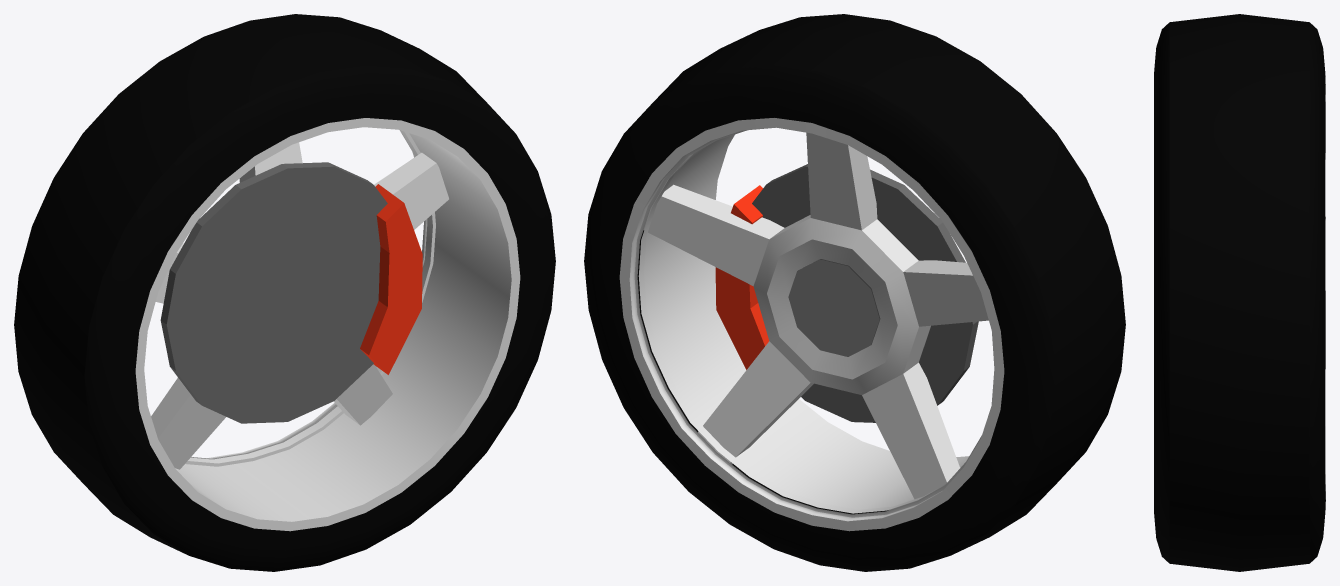
File: tire_3.glb
3 views of the same model, side by side, from view 1: azimuth 30°, elevation 25°; view 2: azimuth 150°, elevation 25°; view 3: azimuth 270°, elevation 25° (orthographic).
Parts seen in each view (by area): view 1: tire, rim, barke_disc, brake; view 2: tire, rim, barke_disc, front, brake, rim_other; view 3: tire.
Part boxes in pixels (x1,y1,x2,y2): tire: (14,14,555,571); rim: (135,118,520,531); barke_disc: (160,162,387,423); brake: (360,184,422,374); tire: (584,14,1125,571); rim: (619,118,1004,531); barke_disc: (752,164,978,422); front: (788,259,879,356); brake: (715,185,768,369); rim_other: (634,127,981,517); tire: (1154,14,1325,571).
Bounding box in the file's own units: 0.631 × 0.631 × 0.194.
